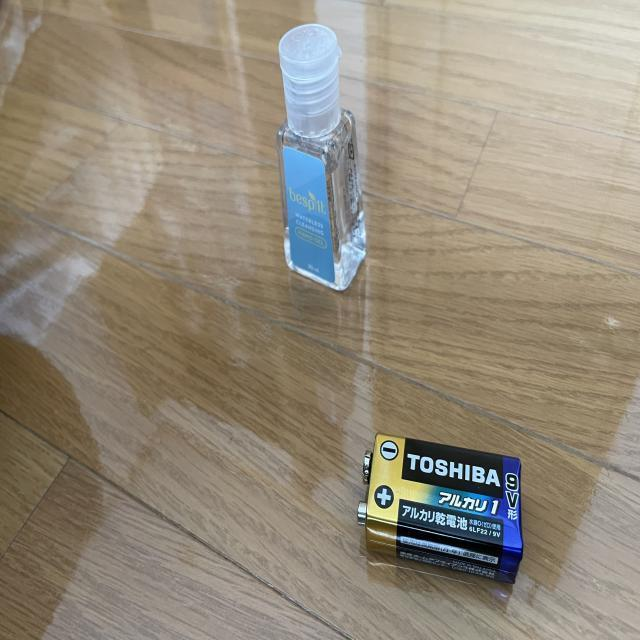9V: (357, 433, 522, 585)
